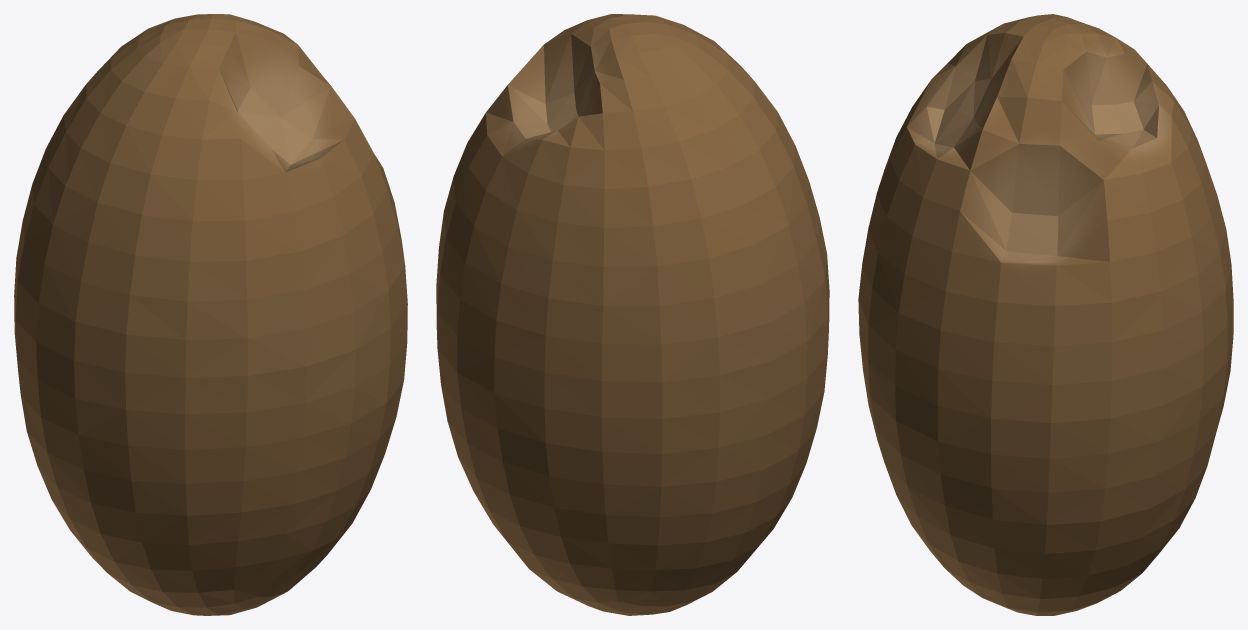
3 views of the same model, side by side, from view 1: azimuth 30°, elevation 25°; view 2: azimuth 150°, elevation 25°; view 3: azimuth 270°, elevation 25° (orthographic).
Parts seen in each view (by area): view 1: ZBrush_defualt_group; view 2: ZBrush_defualt_group; view 3: ZBrush_defualt_group.
Part boxes in pixels (x1,y1,x2,y2): ZBrush_defualt_group: [14, 14, 407, 615]; ZBrush_defualt_group: [436, 14, 829, 615]; ZBrush_defualt_group: [858, 14, 1233, 615].
Bounding box in the file's own units: 6.24 × 9.92 × 5.84.
Materials: 1 (1 with a texture image).
